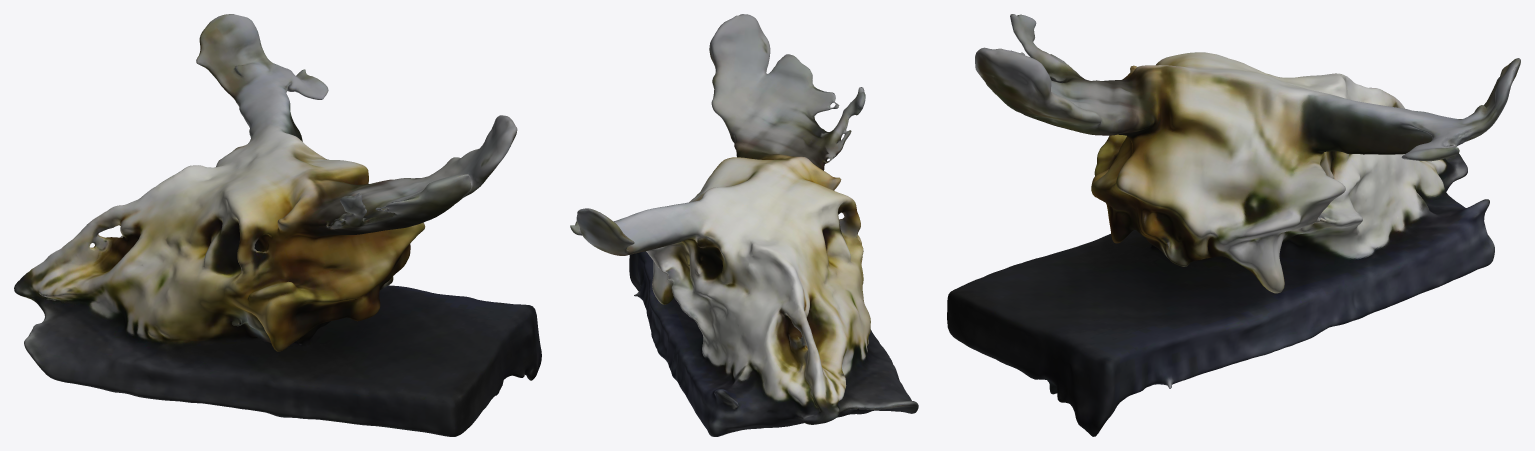
Rendered from b49f840f8b99_horned_animal_skull.fbx.
3 renders of one model, left to right at view 1: azimuth 30°, elevation 25°; view 2: azimuth 150°, elevation 25°; view 3: azimuth 270°, elevation 25°, orthographic. The views are drawn at different scales.
Parts seen in each view (by area): view 1: high_poly; view 2: high_poly; view 3: high_poly.
Part boxes in pixels (x1,y1,x2,y2): high_poly: (14, 14, 541, 436); high_poly: (570, 14, 918, 436); high_poly: (947, 14, 1520, 436).
Size of the model in its own units: 97.53 by 67.85 by 100.
